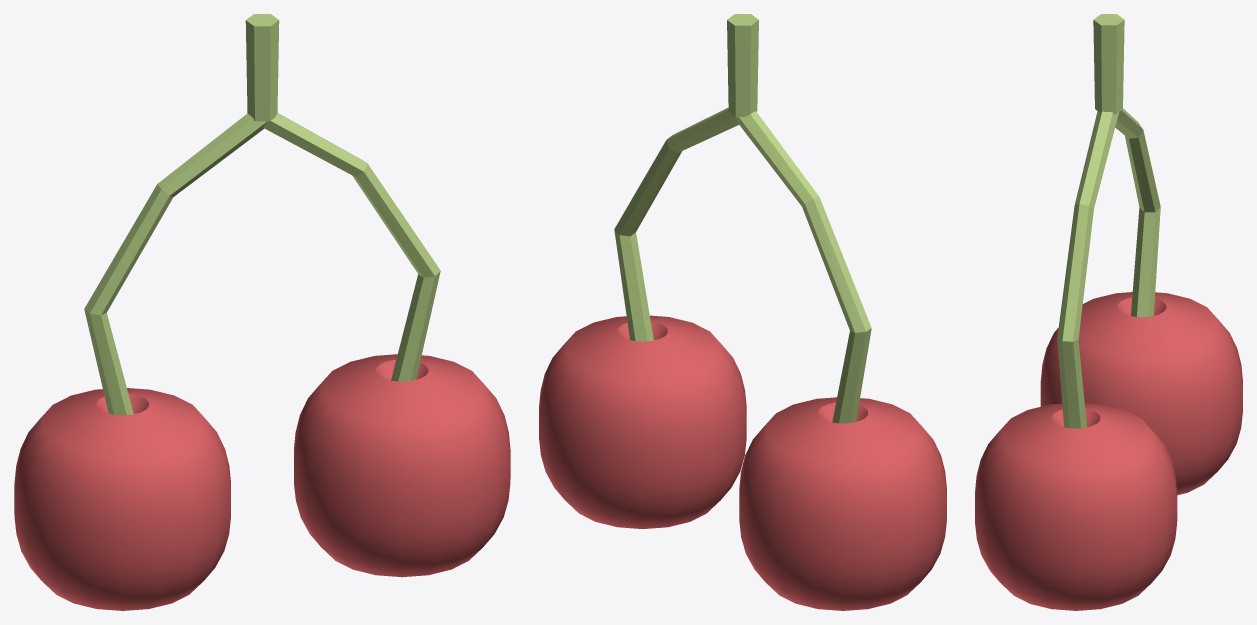
File: fresh-produce-and-groceries-cherry-pair-c2d34019__24321.glb
3 renders of one model, left to right at view 1: azimuth 30°, elevation 25°; view 2: azimuth 150°, elevation 25°; view 3: azimuth 270°, elevation 25°, orthographic. The views are drawn at different scales.
Visible parts, largest first — view 1: cherry-pair; view 2: cherry-pair; view 3: cherry-pair.
Boxes of the visible parts, x1,y1,x2,y2 form: cherry-pair: [14, 14, 510, 610]; cherry-pair: [539, 14, 946, 610]; cherry-pair: [975, 14, 1242, 610].
Size of the model in its own units: 0.057 by 0.07 by 0.0326.
